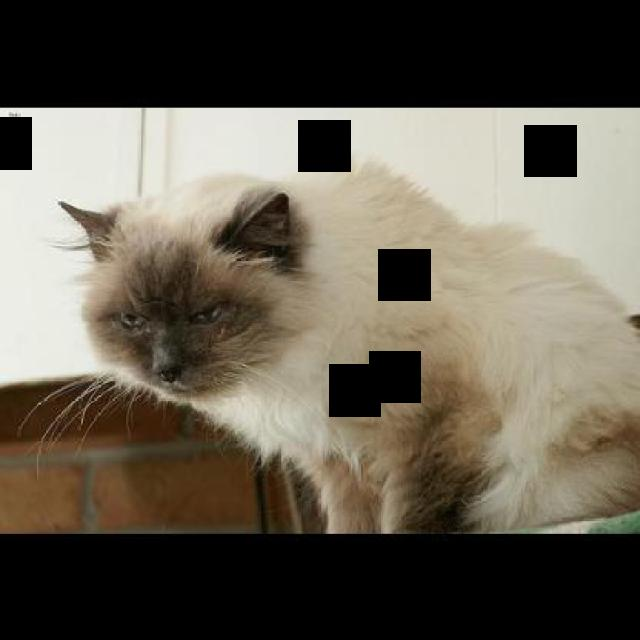unauthorized: (16, 154, 638, 534)
